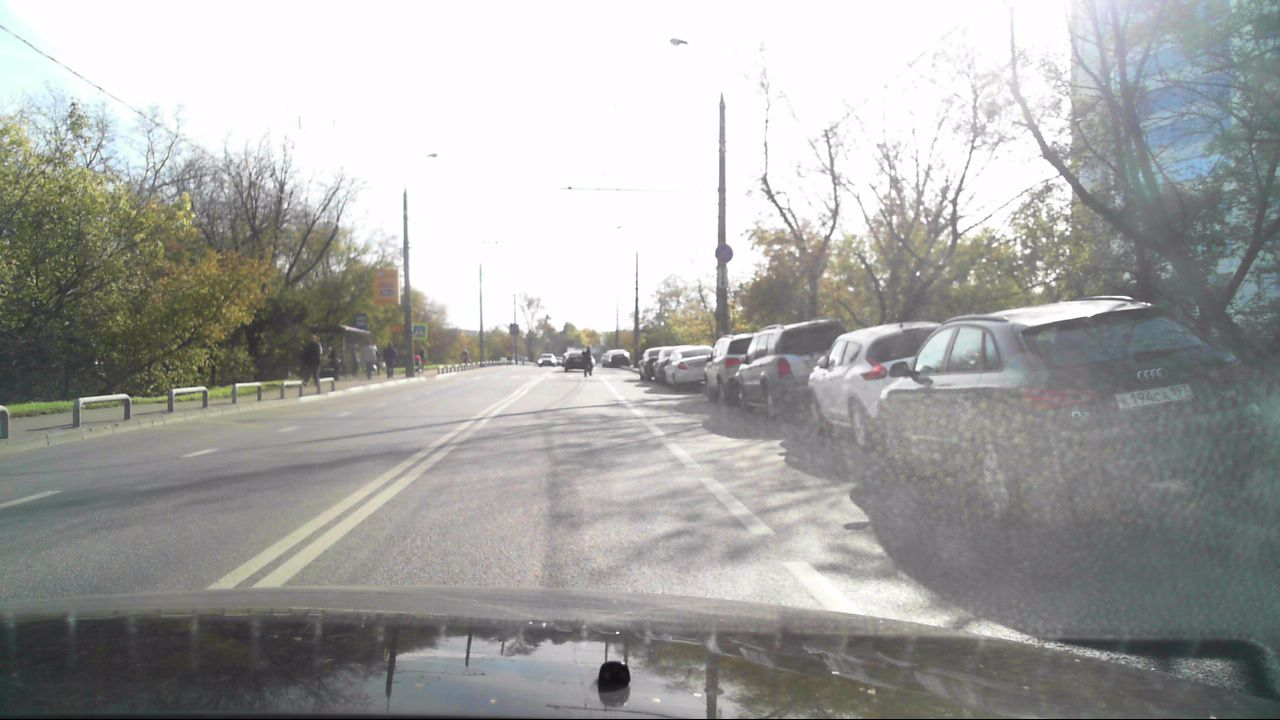No Parking: (714, 242, 733, 262)
